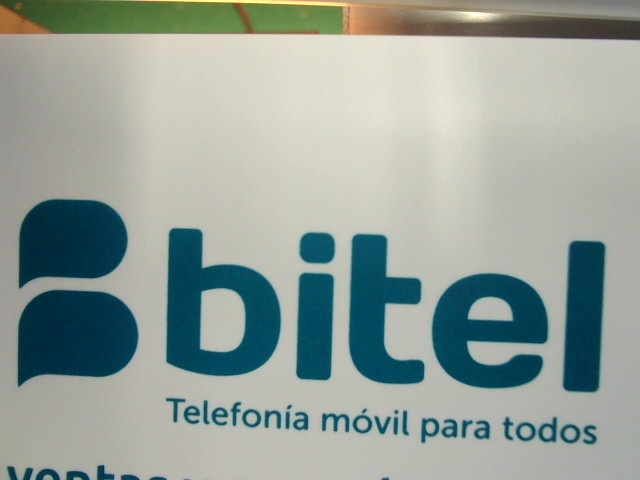BE_bitel: (11, 186, 614, 398)
